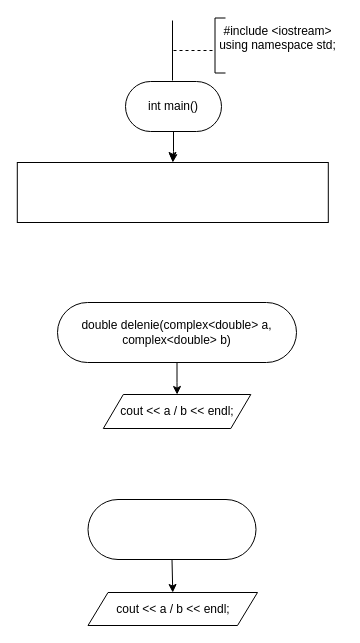
Image size: 360x643. Some labels were removed from this diagram. The shapes that lost their labels are listed below. From the top down, each one's centre as x and y in pixels, then its label:
At [172,192]: "double m1 = delenie(23, 8); double m2 = delenie((16, 2), (5, 2));".
At [171,529]: "double delenie(int a, int b)".
